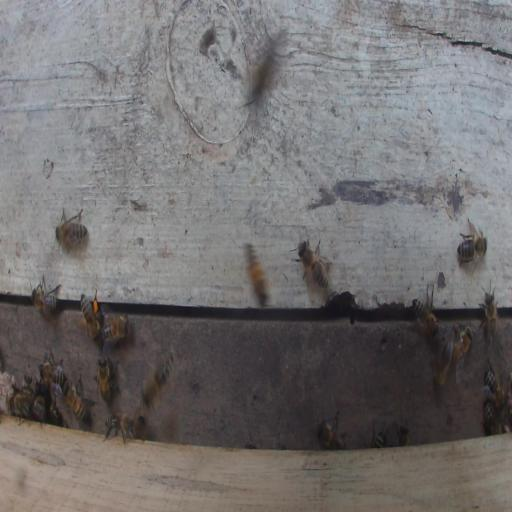bee: (294, 238, 333, 290), (141, 350, 174, 410), (412, 282, 441, 339), (245, 243, 269, 306), (456, 218, 487, 265), (56, 207, 88, 252), (30, 274, 61, 319), (479, 281, 499, 349), (452, 324, 474, 381), (64, 381, 88, 427), (317, 411, 345, 449), (483, 365, 505, 409), (105, 414, 134, 447), (434, 337, 452, 388), (39, 349, 64, 385), (81, 293, 100, 340), (97, 354, 111, 405), (483, 399, 503, 434), (101, 317, 130, 340), (10, 393, 31, 417), (31, 393, 45, 422), (131, 414, 146, 441), (49, 401, 63, 425), (396, 424, 410, 447), (23, 374, 32, 403), (372, 431, 387, 447)
